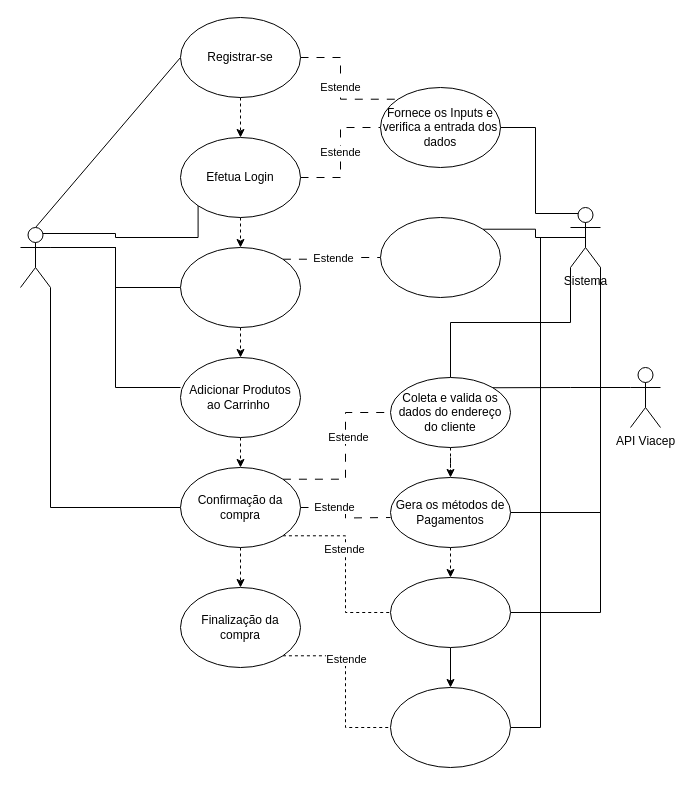
Image size: 692x785. Some labels were removed from this diagram. The box of each missing label's shape, as (x1, y1, x2, y2) in pixels:
Cliente: (20, 226, 50, 288)
Emiti um e-mail/notificação que a compra foi realizada: (390, 686, 510, 768)
Fornece diversos filtros para facilitar a navegação no sistema: (380, 216, 500, 298)
Valida os dados do Pagamento: (390, 576, 510, 648)
Visualizar Produtos: (180, 246, 300, 328)
